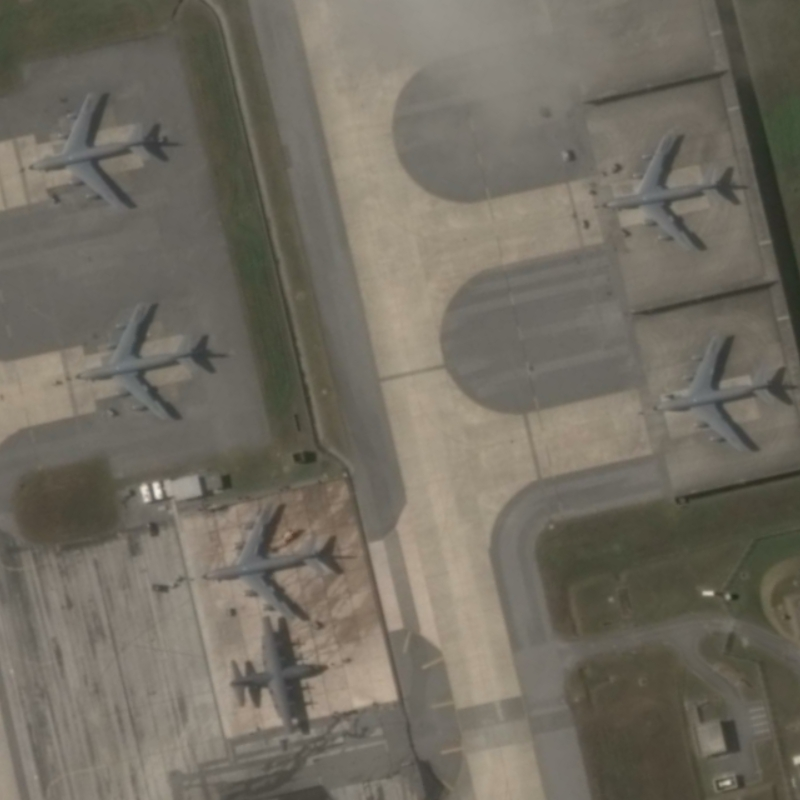A14: (647, 323, 787, 459), (591, 129, 739, 255), (66, 297, 202, 427), (24, 83, 159, 213), (197, 494, 326, 620)
A2: (226, 613, 327, 737)
